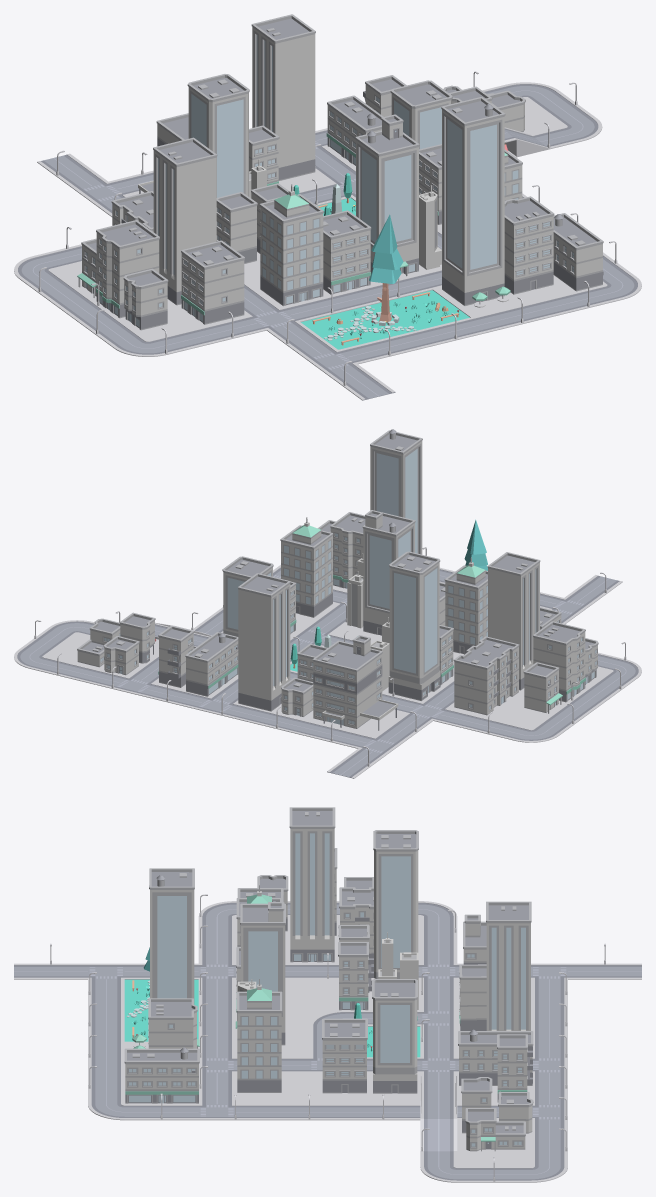
Rendered from NightCity.glb.
The picture shows the model from 3 angles, top to bottom: view 1: azimuth 30°, elevation 25°; view 2: azimuth 150°, elevation 25°; view 3: azimuth 270°, elevation 25°; orthographic projection. The views are drawn at different scales.
Visible parts, largest first — view 1: skyscraperD, skyscraperF, skyscraperF.001, skyscraperC, skyscraperE, skyscraperB, large_buildingD.001, large_buildingE.001, large_buildingE, large_buildingD.002, large_buildingF.001, skyscraperA (+53 smaller); view 2: skyscraperB, skyscraperF, large_buildingG, skyscraperF.001, skyscraperD, skyscraperC, large_buildingA, skyscraperE.001, skyscraperE, large_buildingE, large_buildingF, large_buildingE.001 (+12 smaller); view 3: skyscraperF.001, skyscraperD, skyscraperF, skyscraperB, skyscraperA, skyscraperE.001, large_buildingF.001, skyscraperC, large_buildingD, large_buildingE.001, large_buildingC, small_buildingE (+78 smaller).
Boxes of the visible parts, box(x1,y1,x2,y2) form: skyscraperD: box(441, 97, 505, 305); skyscraperF: box(251, 14, 315, 180); skyscraperF.001: box(153, 137, 217, 305); skyscraperC: box(355, 114, 419, 276); skyscraperE: box(259, 184, 323, 306); skyscraperB: box(187, 74, 249, 197); large_buildingD.001: box(181, 240, 244, 324); large_buildingE.001: box(504, 196, 554, 294); large_buildingE: box(96, 220, 159, 318); large_buildingD.002: box(323, 210, 371, 294); large_buildingF.001: box(553, 213, 603, 291); skyscraperA: box(390, 80, 452, 149); skyscraperB: box(388, 551, 440, 700); skyscraperF: box(238, 573, 290, 711); large_buildingG: box(312, 635, 398, 730); skyscraperF.001: box(487, 552, 540, 690); skyscraperD: box(370, 429, 422, 554); skyscraperC: box(362, 510, 415, 635); large_buildingA: box(453, 636, 519, 715); skyscraperE.001: box(280, 517, 333, 617); skyscraperE: box(444, 557, 487, 654); large_buildingE: box(533, 621, 585, 702); large_buildingF: box(185, 632, 238, 696); large_buildingE.001: box(330, 512, 365, 588); skyscraperF.001: box(289, 807, 335, 962); skyscraperD: box(149, 868, 199, 1048); skyscraperF: box(486, 901, 531, 1030); skyscraperB: box(373, 830, 418, 978); skyscraperA: box(372, 979, 417, 1093); skyscraperE.001: box(236, 979, 282, 1092); large_buildingF.001: box(124, 1047, 199, 1103); skyscraperC: box(235, 901, 285, 1045); large_buildingD: box(322, 1018, 367, 1093); large_buildingE.001: box(148, 998, 197, 1048); large_buildingC: box(338, 942, 373, 1010); small_buildingE: box(465, 1108, 525, 1151).
Bounding box in the file's own units: 18 × 5.5 × 17.
